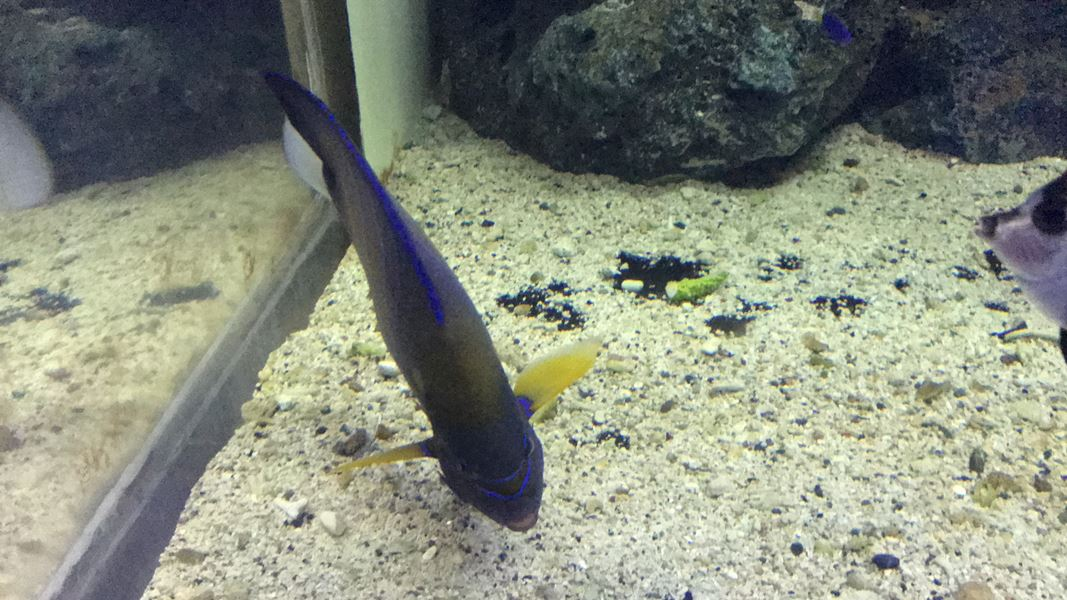Blue ring angelfish: (261, 53, 625, 561)
